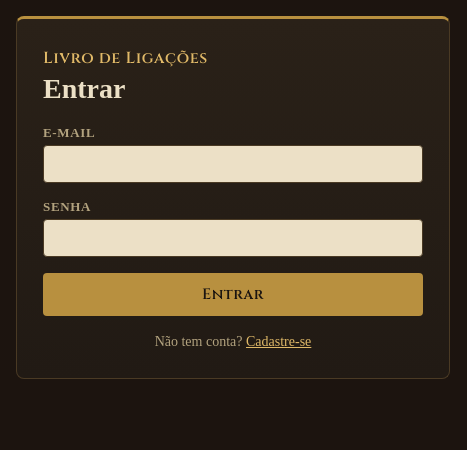
Test: login › exibe um erro genérico e não navega quando as credenciais são rejeitadas
The width and height of the screenshot is (467, 450).
Type "mestre@example.com" into the field labelled "E-mail" at (233, 164), box [43,145,423,183]
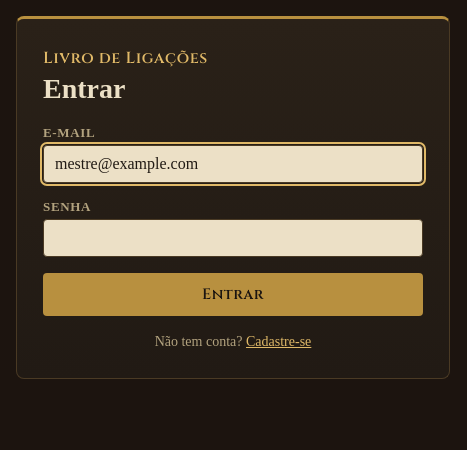
Type "senha-errada" into the password field labelled "Senha" at (233, 238), box [43,219,423,257]
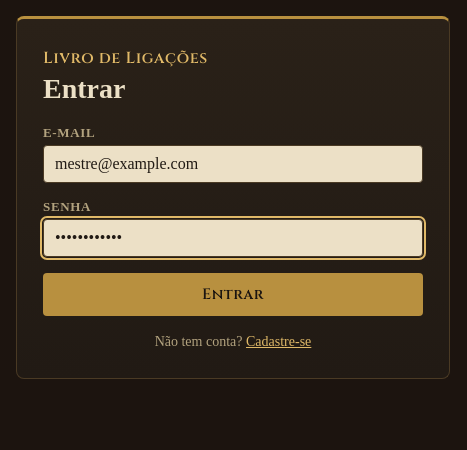
Click the button "Entrar" at (233, 294), box [43,273,423,316]
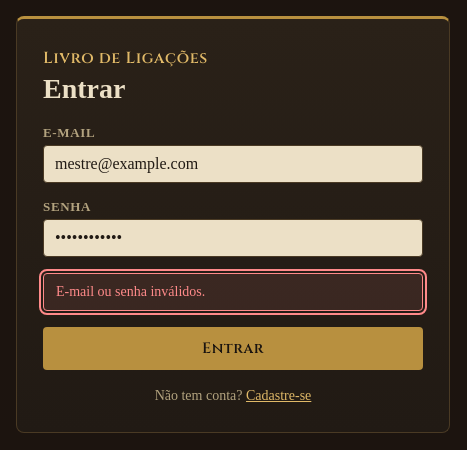
Expected: the message reads "E-mail ou senha inválidos.", [56,284,205,299]
